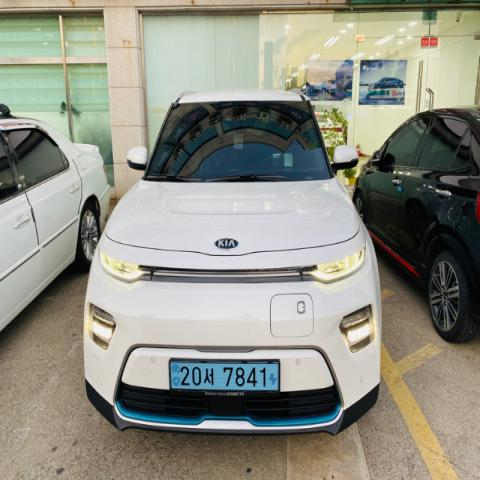LP: (166, 352, 281, 400)
